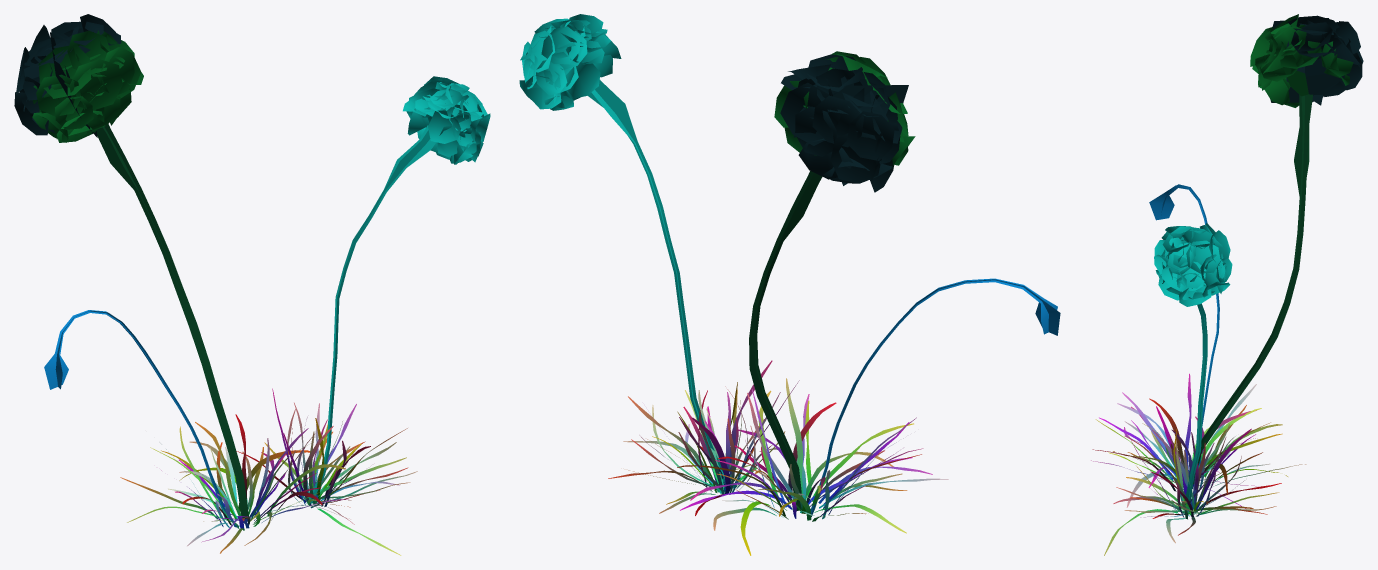
Rendered from Sea_Thrift_vkbgaihha_High_vkbgaihha_VarG_LOD0.fbx.
3 renders of one model, left to right at view 1: azimuth 30°, elevation 25°; view 2: azimuth 150°, elevation 25°; view 3: azimuth 270°, elevation 25°, orthographic. The views are drawn at different scales.
Visible parts, largest first — view 1: _u1v0_VarG_LOD0; view 2: _u1v0_VarG_LOD0; view 3: _u1v0_VarG_LOD0.
Part boxes in pixels (x1,y1,x2,y2): _u1v0_VarG_LOD0: (14, 14, 490, 555); _u1v0_VarG_LOD0: (519, 14, 1060, 555); _u1v0_VarG_LOD0: (1091, 14, 1363, 555).
Size of the model in its own units: 13.37 by 13.88 by 7.72.
